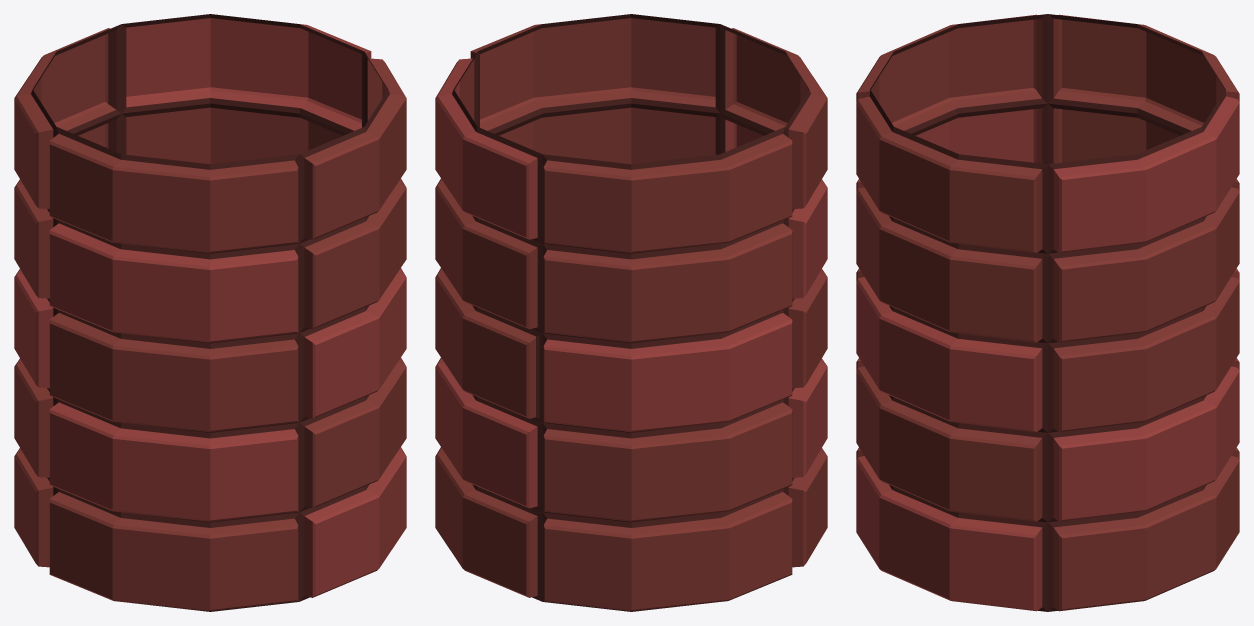
The model's file is Pillar Segment 5 Blocks.fbx.
The picture shows the model from 3 angles, left to right: view 1: azimuth 30°, elevation 25°; view 2: azimuth 150°, elevation 25°; view 3: azimuth 270°, elevation 25°; orthographic projection.
Parts seen in each view (by area): view 1: Pillar Segment 5 Blocks; view 2: Pillar Segment 5 Blocks; view 3: Pillar Segment 5 Blocks.
Boxes of the visible parts, bbox=[...] form: Pillar Segment 5 Blocks: bbox=[14, 14, 406, 611]; Pillar Segment 5 Blocks: bbox=[435, 14, 827, 611]; Pillar Segment 5 Blocks: bbox=[856, 14, 1239, 611].
Bounding box in the file's own units: 196 × 250 × 194.
